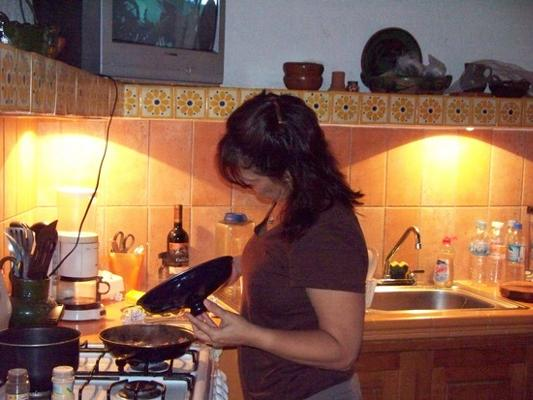person: (189, 94, 368, 399)
